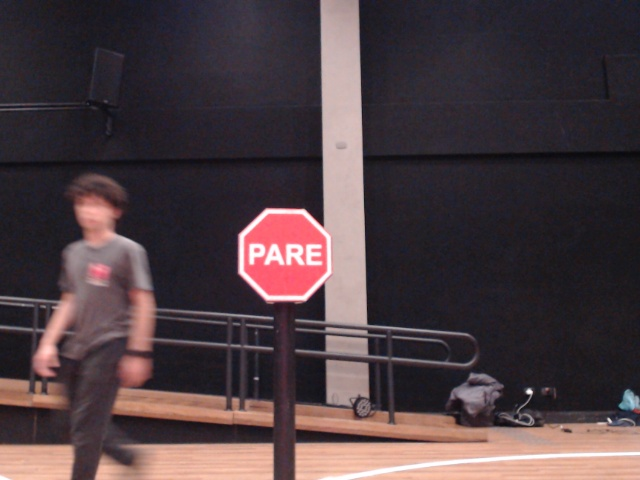SEMAFORO: (219, 192, 365, 327)
